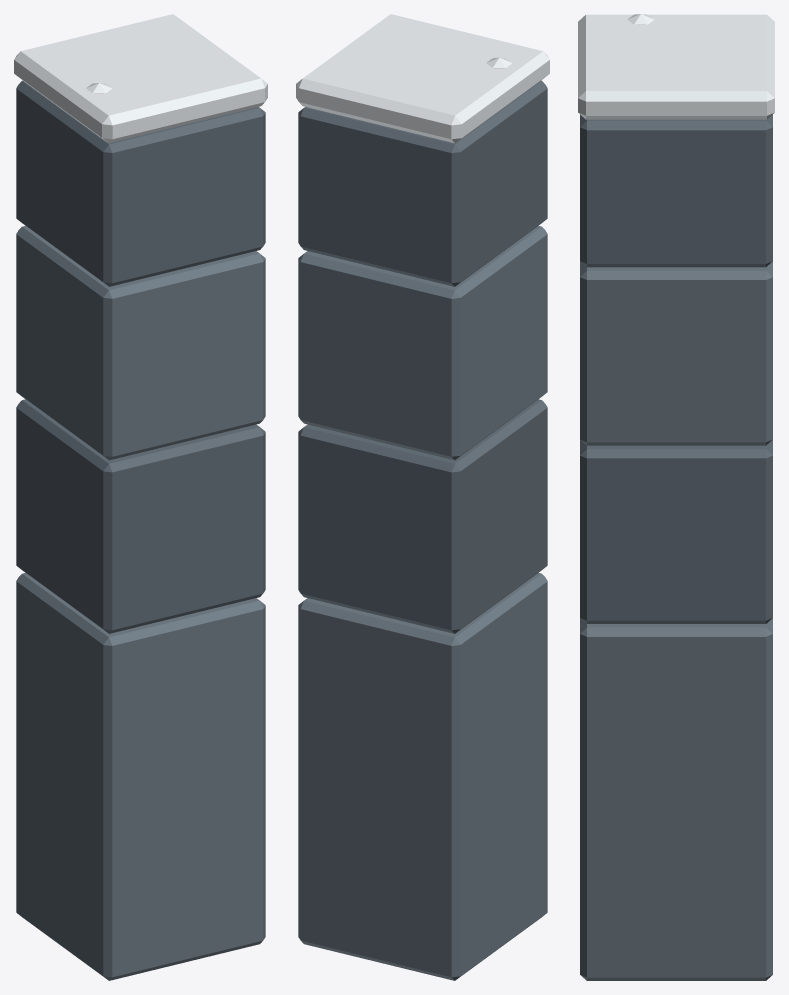
File: column-rime-4.glb
3 views of the same model, side by side, from view 1: azimuth 30°, elevation 25°; view 2: azimuth 150°, elevation 25°; view 3: azimuth 270°, elevation 25° (orthographic). The views are drawn at different scales.
Parts seen in each view (by area): view 1: column-rime-4; view 2: column-rime-4; view 3: column-rime-4.
Boxes of the visible parts, x1,y1,x2,y2 form: column-rime-4: [14, 14, 267, 980]; column-rime-4: [296, 14, 549, 980]; column-rime-4: [578, 14, 774, 980].
Size of the model in its own units: 1 by 5.04 by 1.
